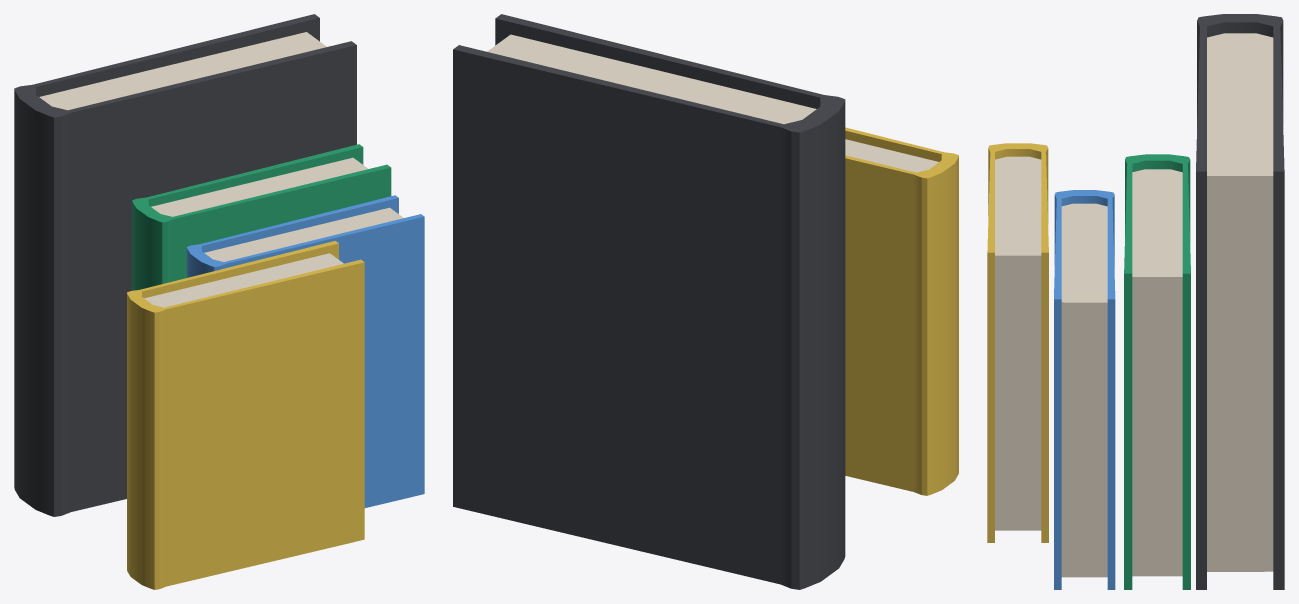
File: BookPile8.fbx
3 views of the same model, side by side, from view 1: azimuth 30°, elevation 25°; view 2: azimuth 150°, elevation 25°; view 3: azimuth 270°, elevation 25° (orthographic). The views are drawn at different scales.
Visible parts, largest first — view 1: polySurface106; view 2: polySurface106; view 3: polySurface106.
Part boxes in pixels (x1,y1,x2,y2): polySurface106: (14, 14, 424, 589); polySurface106: (453, 14, 958, 589); polySurface106: (987, 14, 1284, 589).
Bounding box in the file's own units: 0.4519 × 0.5599 × 0.3603.
